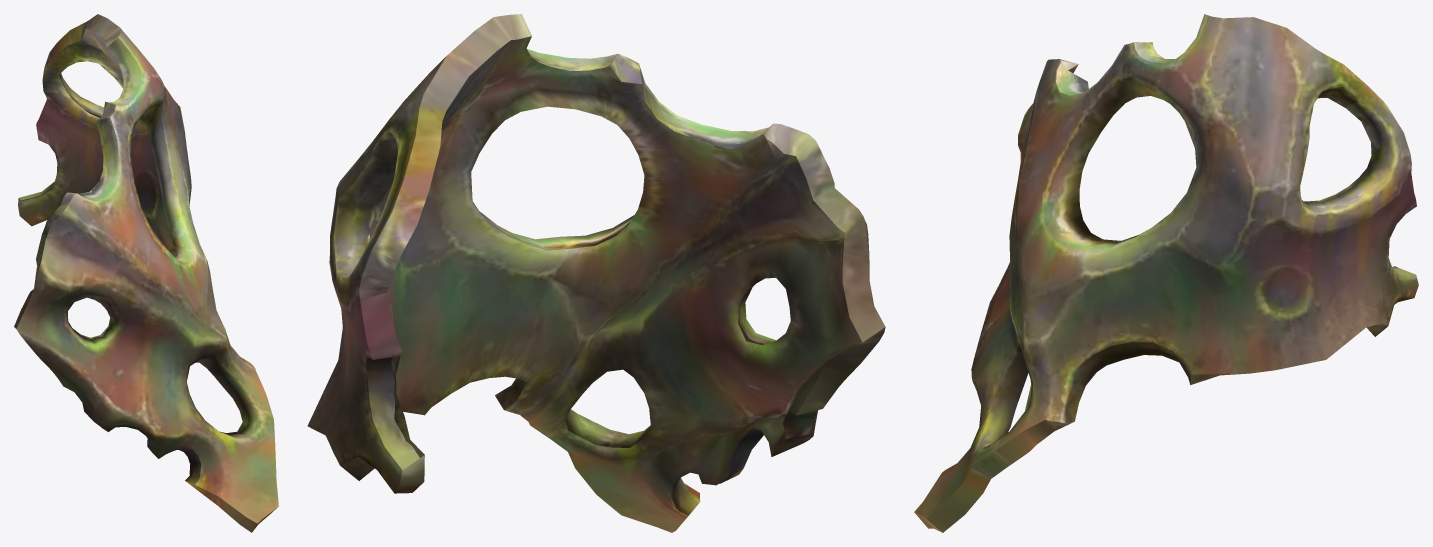
3 renders of one model, left to right at view 1: azimuth 30°, elevation 25°; view 2: azimuth 150°, elevation 25°; view 3: azimuth 270°, elevation 25°, orthographic. The views are drawn at different scales.
Visible parts, largest first — view 1: SM_Poison_Rock_Piece_04_LOD0; view 2: SM_Poison_Rock_Piece_04_LOD0; view 3: SM_Poison_Rock_Piece_04_LOD0.
Part boxes in pixels (x1,y1,x2,y2): SM_Poison_Rock_Piece_04_LOD0: [14, 14, 278, 532]; SM_Poison_Rock_Piece_04_LOD0: [307, 14, 885, 532]; SM_Poison_Rock_Piece_04_LOD0: [914, 14, 1418, 532].
Bounding box in the file's own units: 1.32 × 2.04 × 1.85.
1 material, 1 textured.
